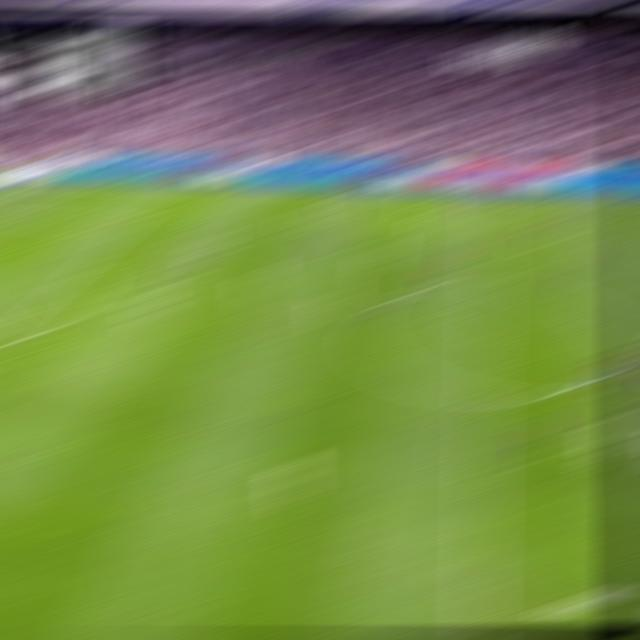bigarea_top_inner: (118, 220, 146, 227)
corner: (30, 177, 61, 179)
halfcircle_bottom: (467, 384, 501, 404)
halfcircle_top: (470, 276, 504, 293)
midline_top_intersection: (474, 193, 504, 199)
top_arc_area_intersection: (63, 266, 93, 274)
